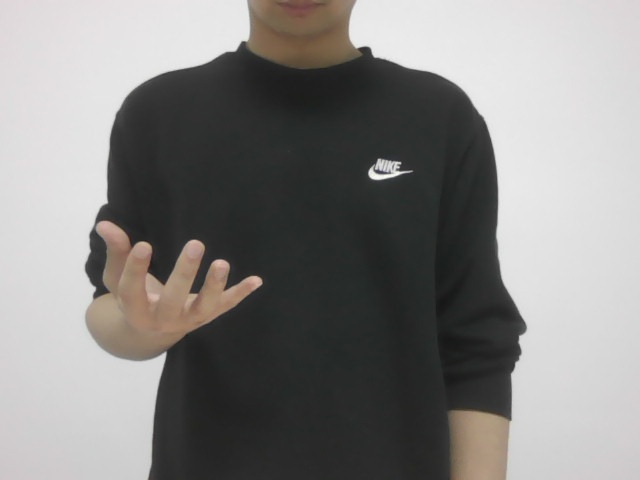flavor: (66, 218, 263, 343)
